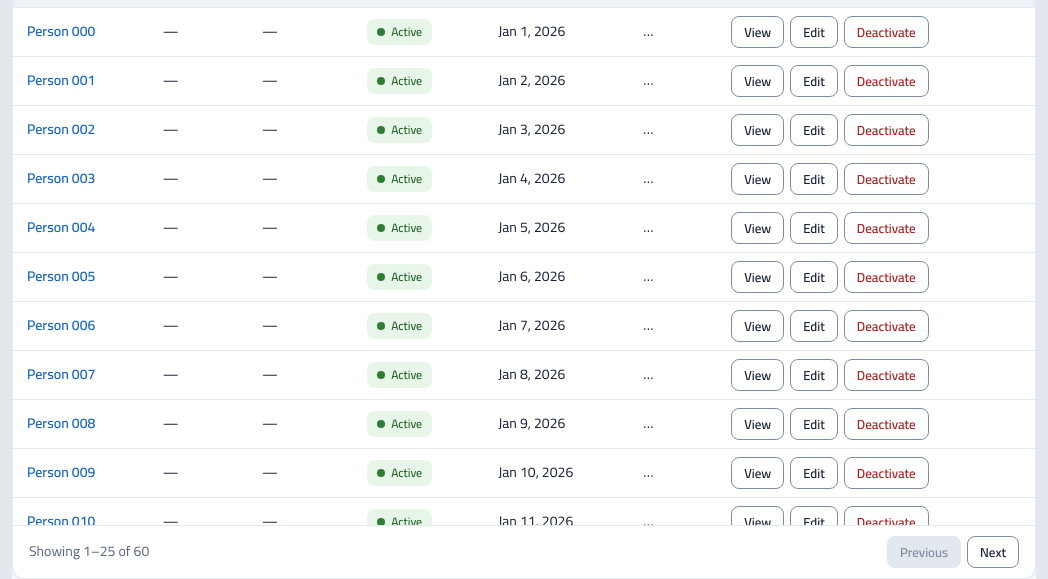
Test: the customer list, a page at a time › moves to the next and the previous page, counting those customers instead
(page scrolled)
Click the button "Next" at (993, 552), box [967, 536, 1019, 568]
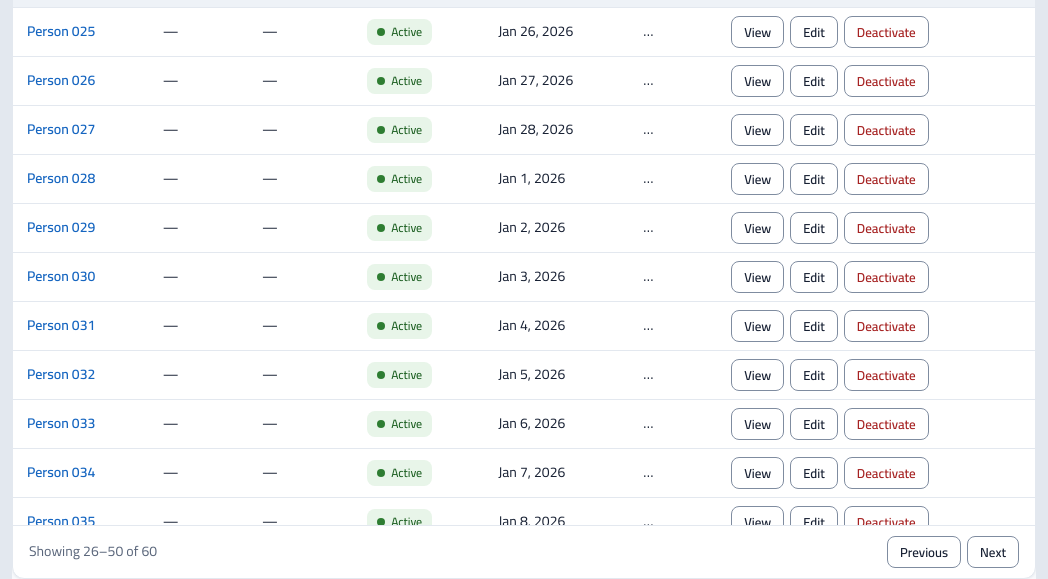
Now the text with class "muted" reads "Showing 26–50 of 60", box [29, 538, 157, 564]
Click the button "Next" at (993, 552), box [967, 536, 1019, 568]
(page scrolled)
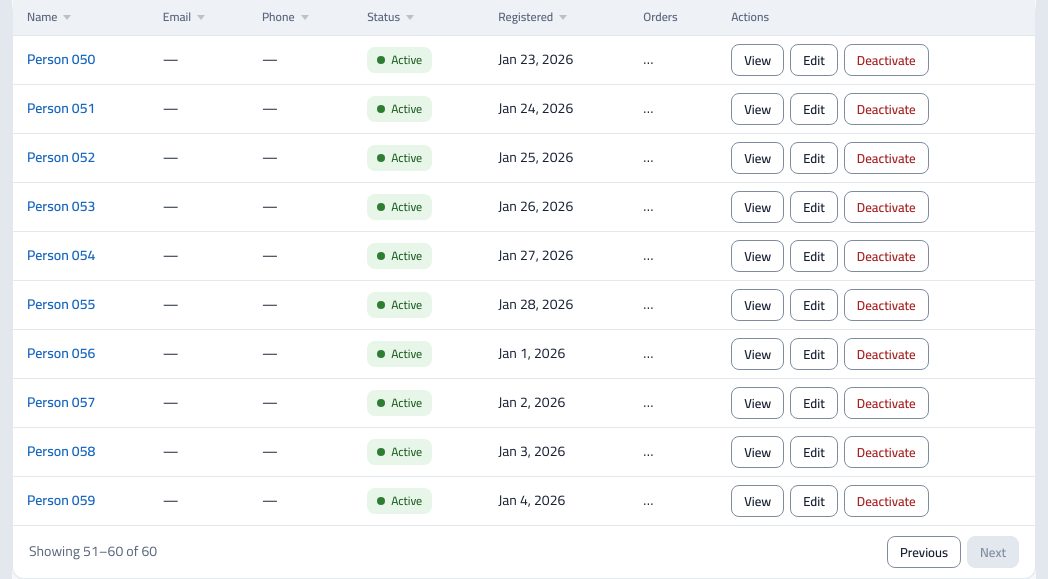
Now the text with class "muted" reads "Showing 51–60 of 60", box [29, 538, 157, 564]
Now the button "Next" is disabled, box [967, 536, 1019, 568]
Click the button "Previous" at (924, 552), box [887, 536, 961, 568]
(page scrolled)
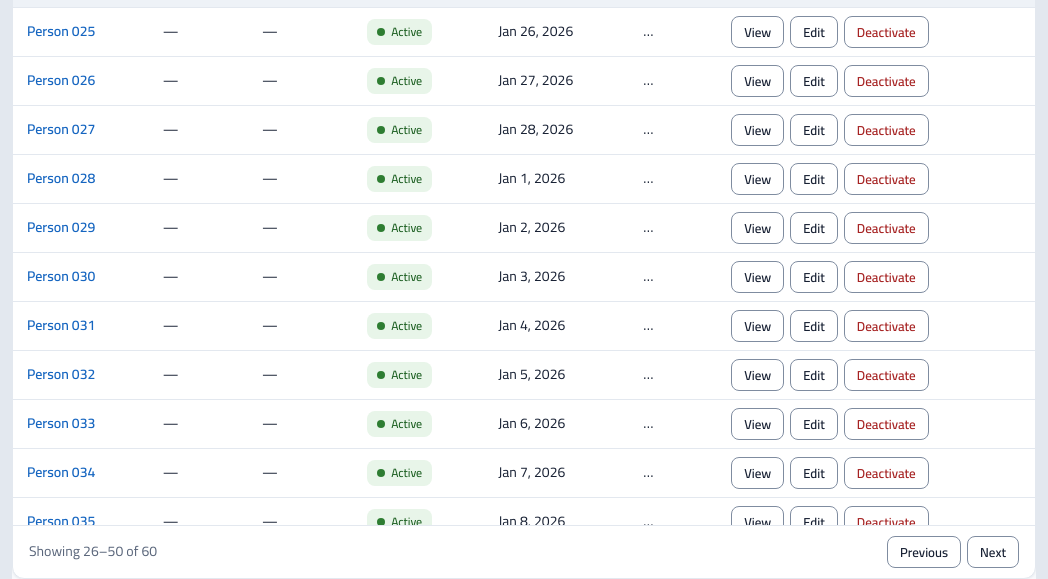
Now the text with class "muted" reads "Showing 26–50 of 60", box [29, 538, 157, 564]
